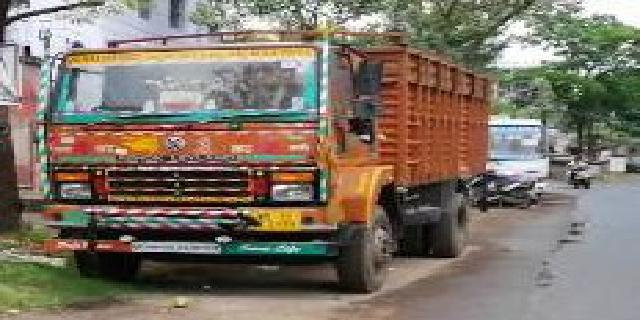Truck: (47, 39, 495, 293)
